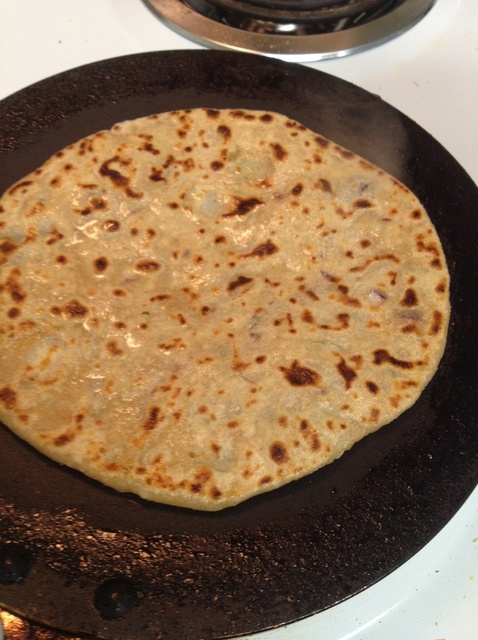aloo_paratha: (5, 110, 451, 512)
